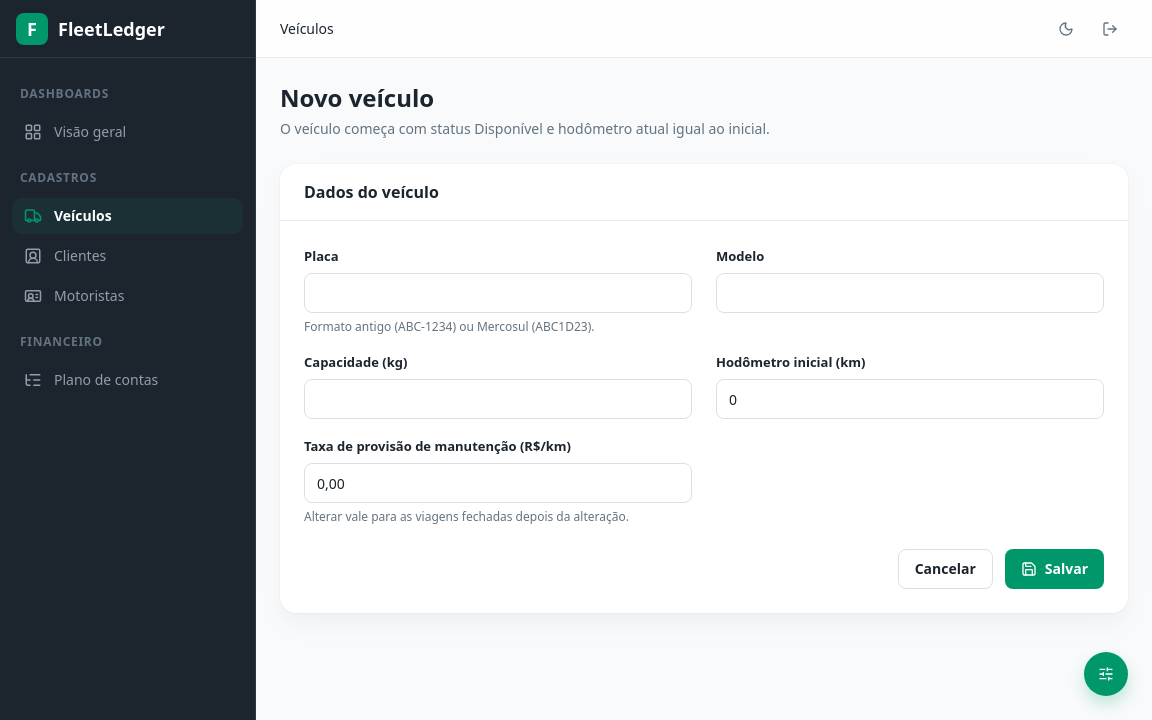
it: NewVehiclePage › shows the API validation message on the field
Type "abc-1d23" into the field labelled "Placa".
click(498, 293); type("abc-1d23")  # box left=304, top=273, right=692, bottom=313
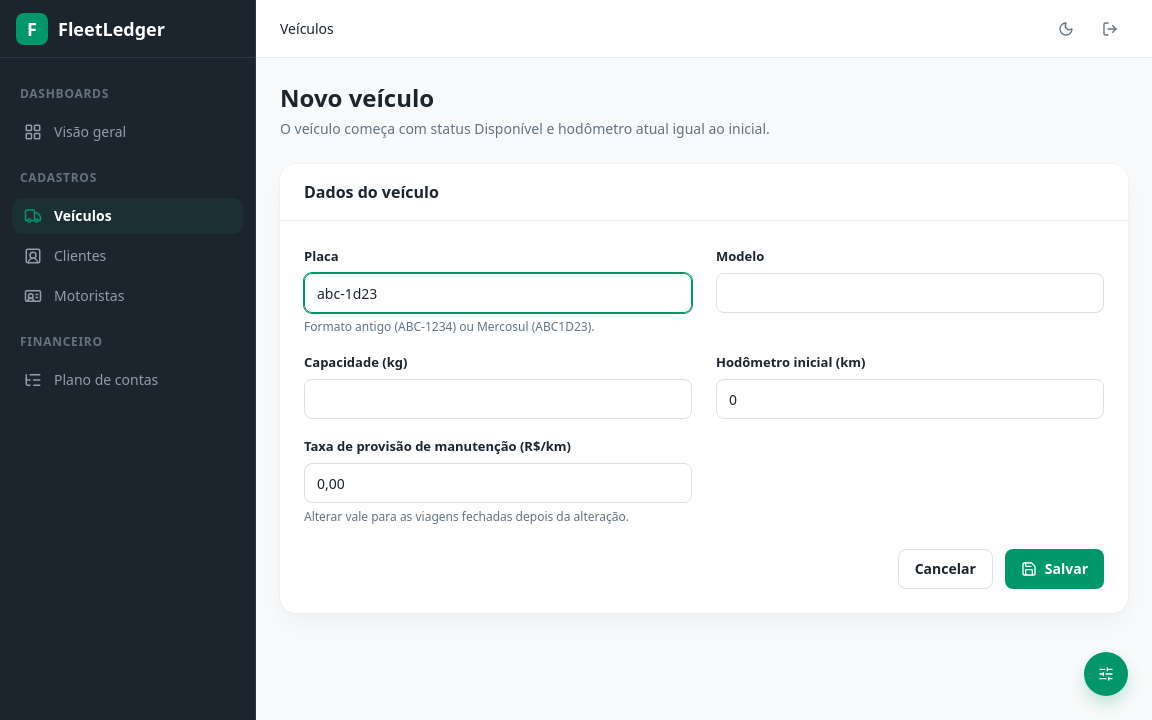
Type "Volvo FH 540" into the field labelled "Modelo".
click(910, 293); type("Volvo FH 540")  # box left=716, top=273, right=1104, bottom=313
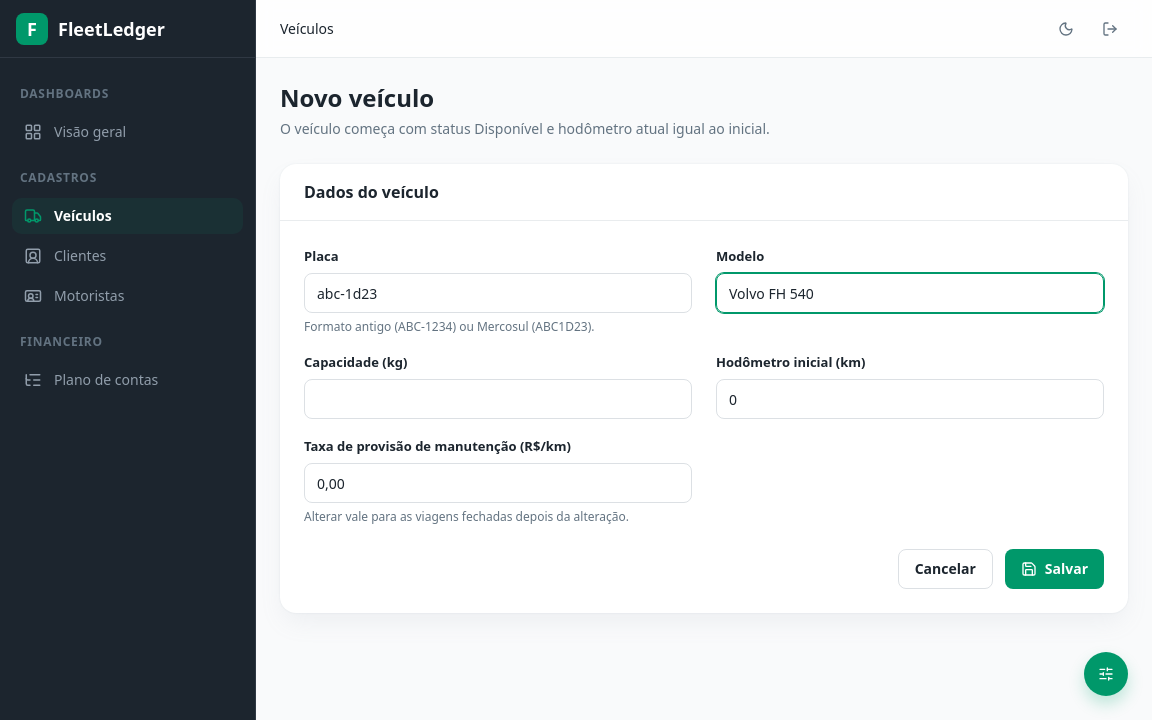
Type "27.000" into the field labelled "Capacidade (kg)".
click(498, 399); type("27.000")  # box left=304, top=379, right=692, bottom=419
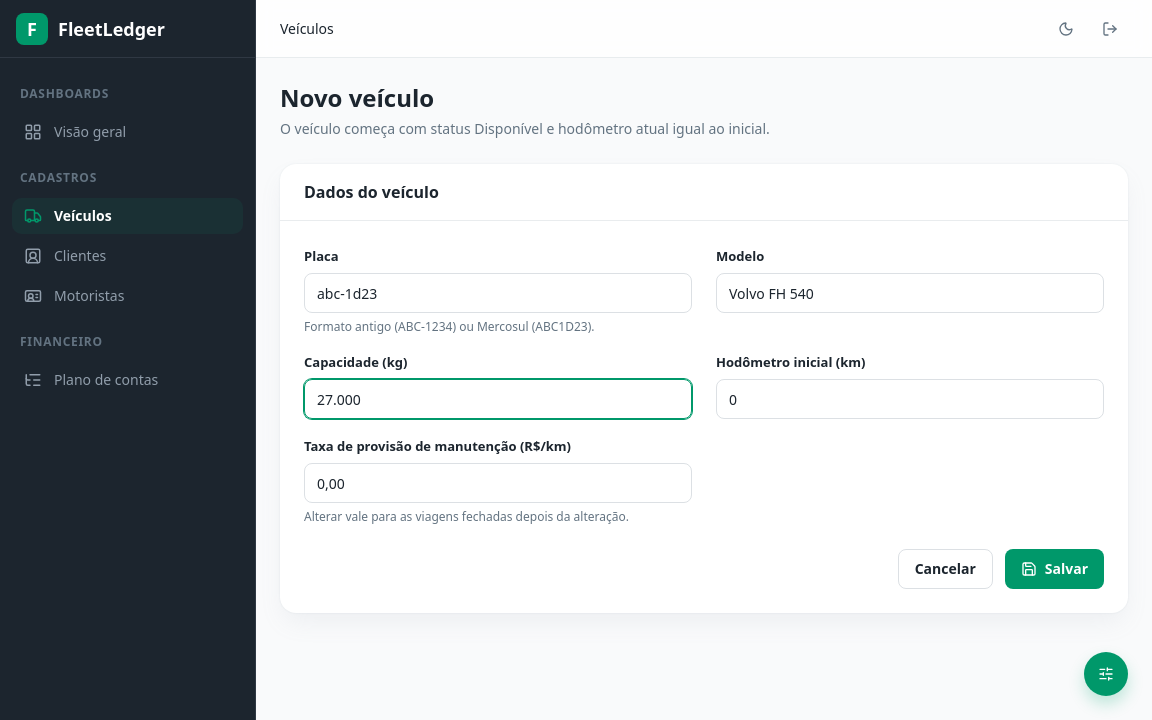
Replace the text in the field labelled "Hodômetro inicial (km)" with "100000" at (910, 399), box left=716, top=379, right=1104, bottom=419
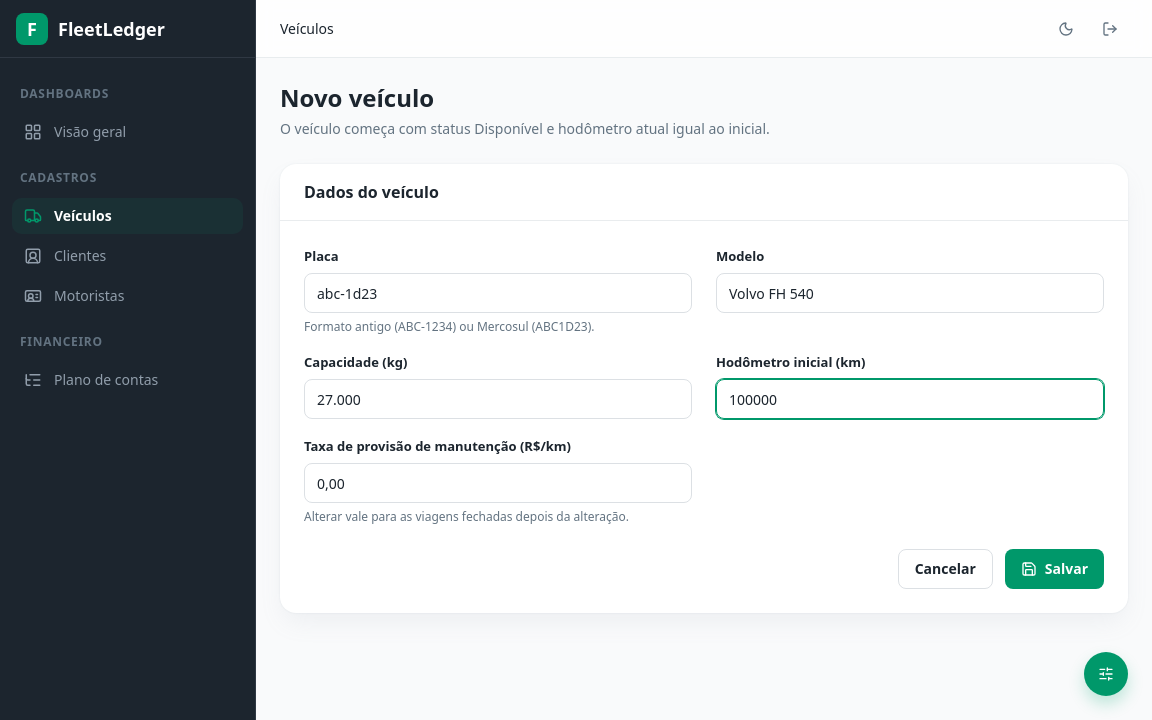
Replace the text in the field labelled "Taxa de provisão de manutenção (R$/km)" with "0,15" at (498, 483), box left=304, top=463, right=692, bottom=503
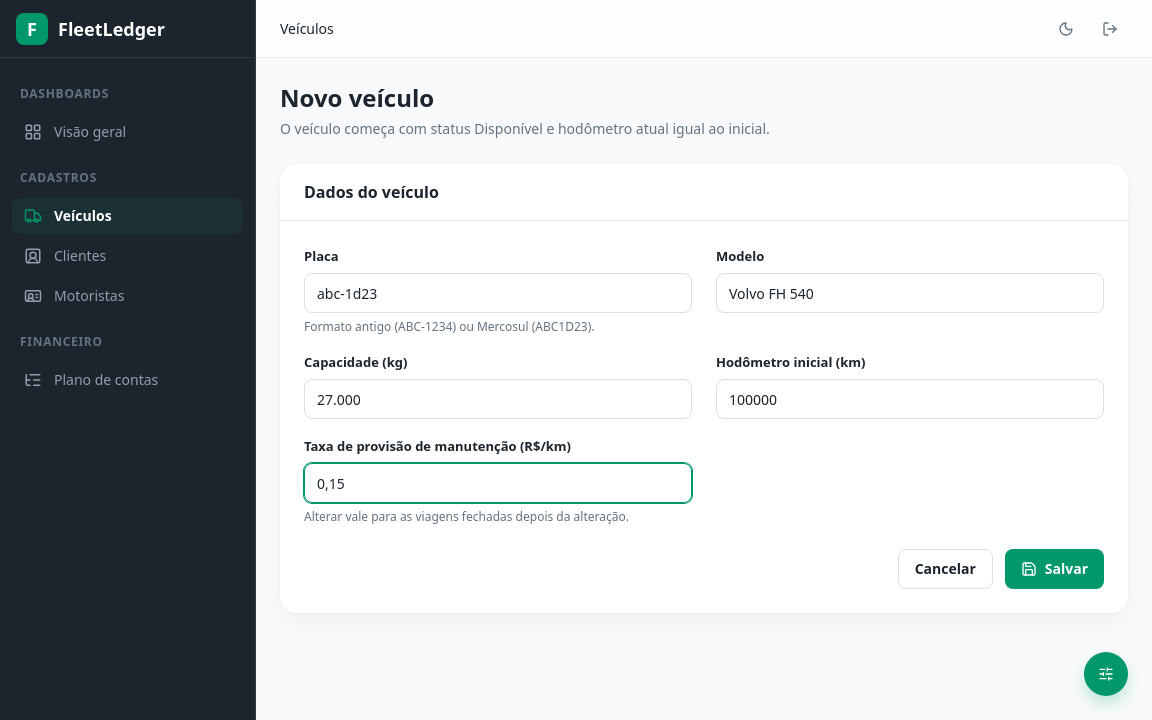
Click the button "Salvar".
click(1054, 569)  # box left=1005, top=549, right=1104, bottom=589
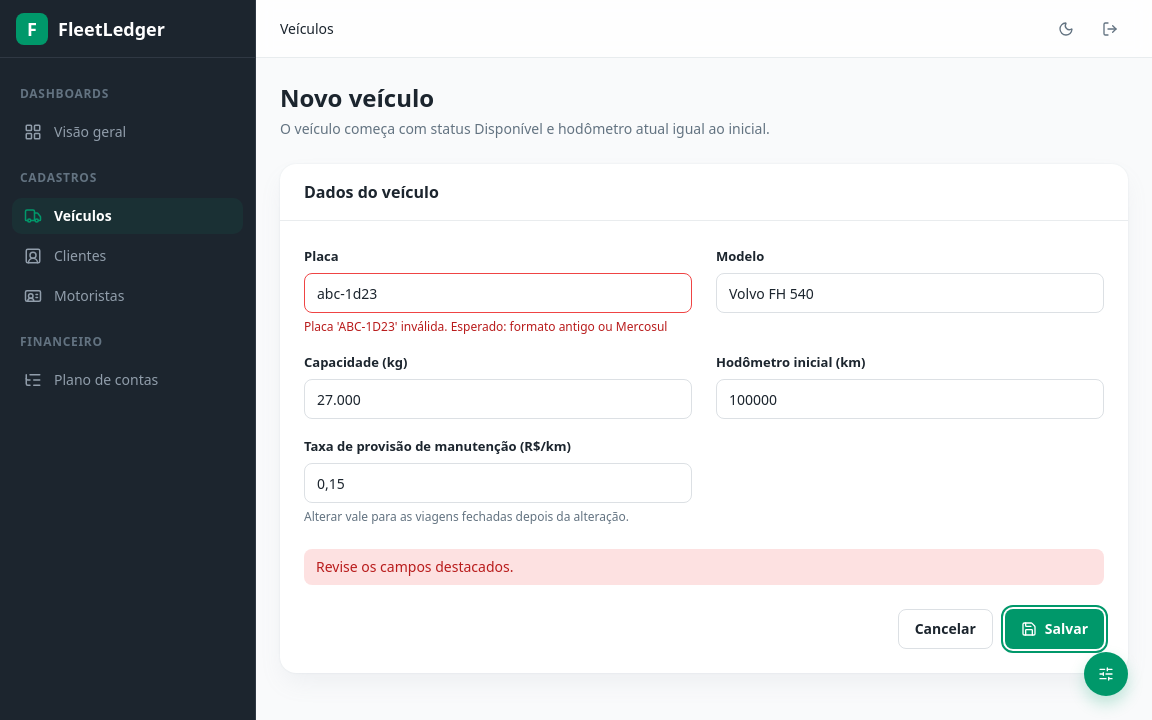
Check: the message reads "Revise os campos destacados.", box left=316, top=557, right=513, bottom=576
